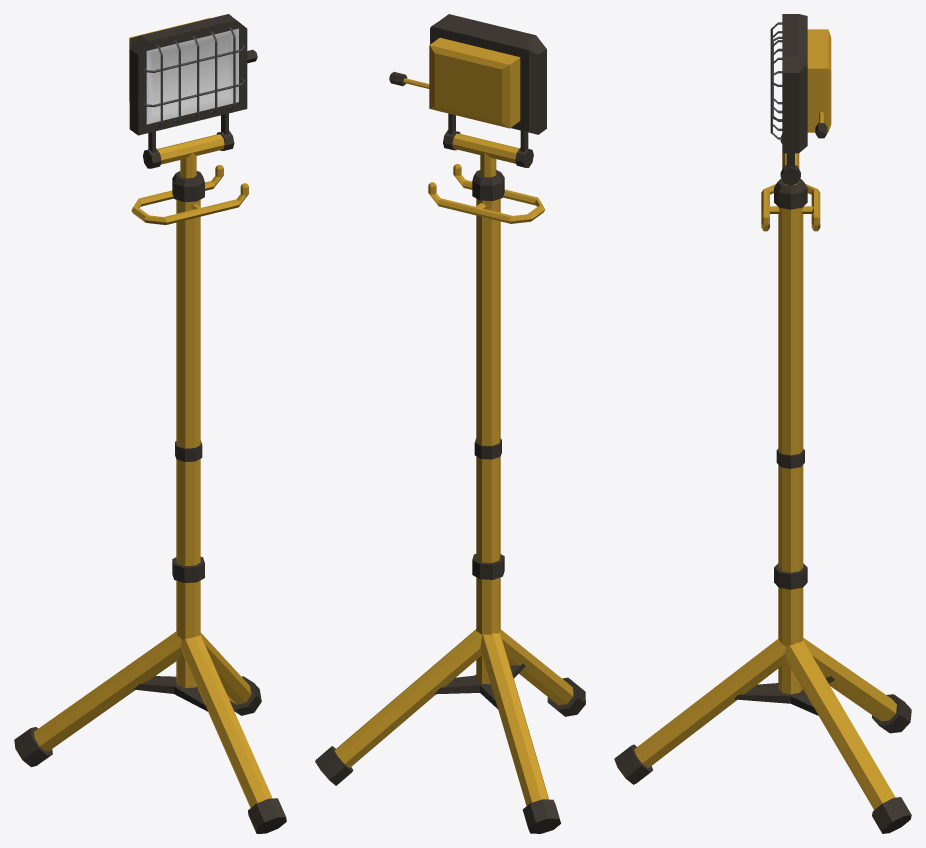
Rendered from workLight1.fbx.
The picture shows the model from 3 angles, left to right: view 1: azimuth 30°, elevation 25°; view 2: azimuth 150°, elevation 25°; view 3: azimuth 270°, elevation 25°; orthographic projection.
Parts seen in each view (by area): view 1: Stand, Lamp; view 2: Stand, Lamp; view 3: Stand, Lamp.
Part boxes in pixels (box(x1,y1,x2,y2)): Stand: box(14, 165, 286, 833); Lamp: box(129, 14, 257, 178); Stand: box(315, 164, 585, 833); Lamp: box(389, 14, 546, 177); Stand: box(614, 178, 911, 833); Lamp: box(770, 14, 831, 185).
Size of the model in its own units: 67.15 by 197 by 70.97.
